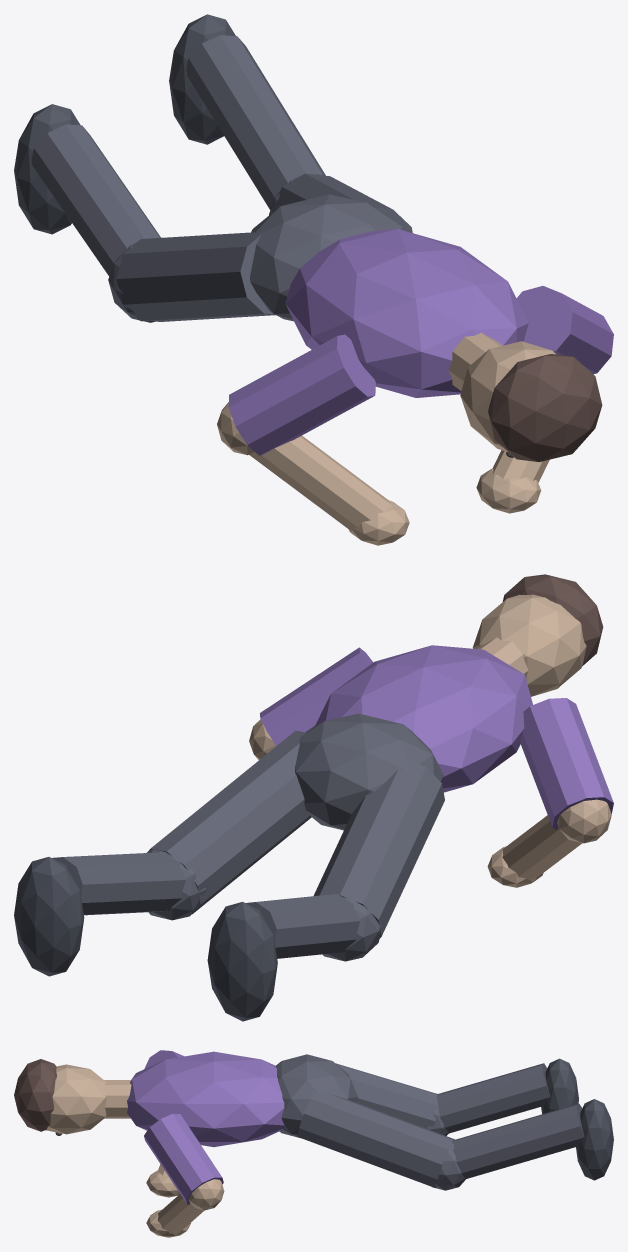
3 views of the same model, one above another, from view 1: azimuth 30°, elevation 25°; view 2: azimuth 150°, elevation 25°; view 3: azimuth 270°, elevation 25° (orthographic). The views are drawn at different scales.
Visible parts, largest first — view 1: world; view 2: world; view 3: world.
Boxes of the visible parts, box(x1,y1,x2,y2) form: world: box(14, 14, 613, 545); world: box(14, 574, 613, 1021); world: box(14, 1050, 613, 1237).
Size of the model in its own units: 0.93 by 0.565 by 2.
